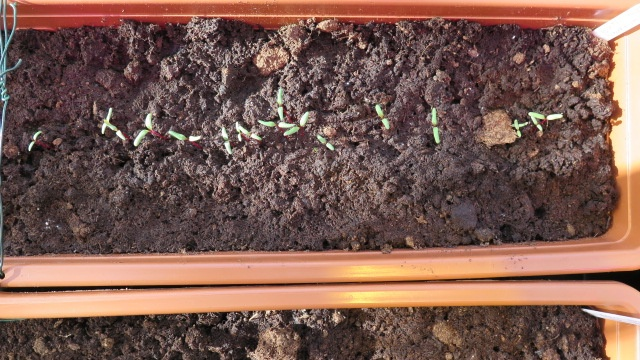crop: (506, 116, 553, 140), (129, 110, 157, 150), (237, 110, 262, 148), (102, 119, 124, 160), (214, 124, 236, 158), (426, 105, 444, 146), (310, 130, 340, 154), (371, 102, 394, 131), (163, 127, 206, 142), (526, 109, 563, 126), (100, 109, 117, 138), (24, 129, 44, 152), (232, 121, 246, 149)
